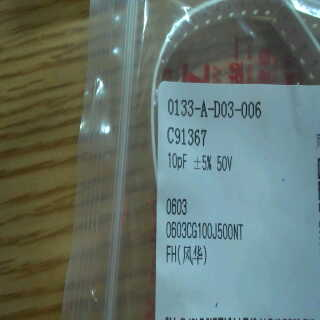10pF: (163, 148, 190, 175)
